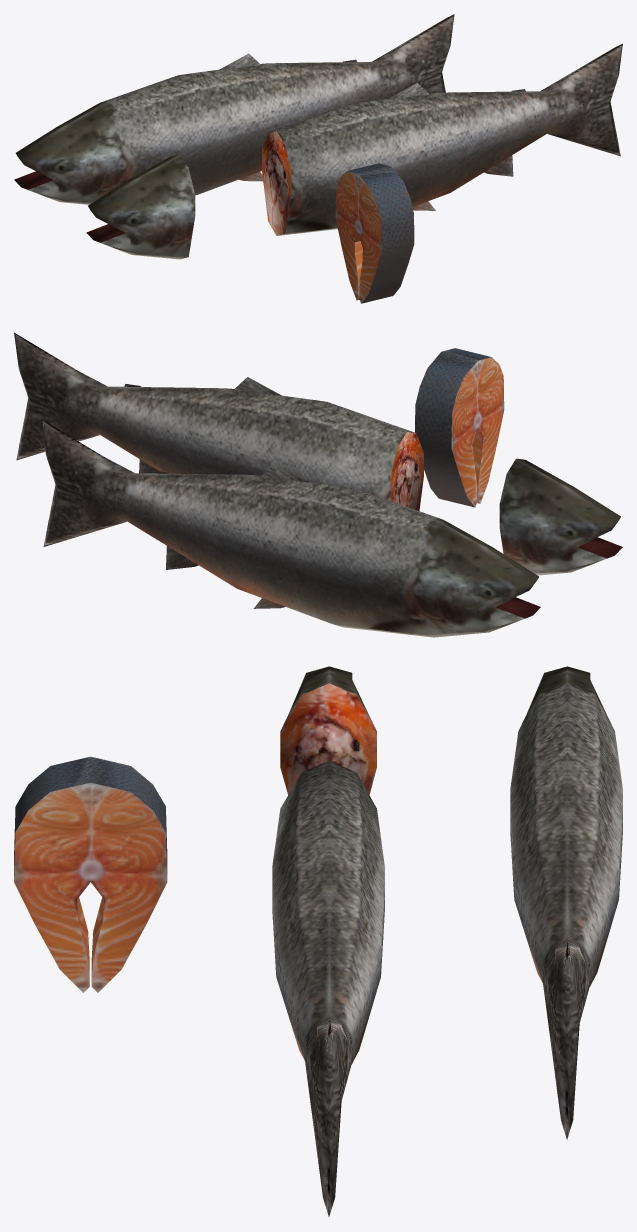
Rendered from SalmonFish.fbx.
3 views of the same model, one above another, from view 1: azimuth 30°, elevation 25°; view 2: azimuth 150°, elevation 25°; view 3: azimuth 270°, elevation 25° (orthographic). The views are drawn at different scales.
Visible parts, largest first — view 1: Fish1, Fish2_Body, Steak, Fish2_Head; view 2: Fish1, Fish2_Body, Steak, Fish2_Head; view 3: Fish1, Fish2_Body, Steak, Fish2_Head.
Boxes of the visible parts, x1=… form: Fish1: x1=14, y1=14, x2=454, y2=204; Fish2_Body: x1=262, y1=43, x2=622, y2=235; Steak: x1=335, y1=163, x2=414, y2=303; Fish2_Head: x1=86, y1=154, x2=195, y2=259; Fish1: x1=41, y1=419, x2=540, y2=637; Fish2_Body: x1=14, y1=332, x2=423, y2=511; Steak: x1=415, y1=348, x2=504, y2=507; Fish2_Head: x1=499, y1=458, x2=622, y2=575; Fish1: x1=510, y1=666, x2=622, y2=1139; Fish2_Body: x1=272, y1=760, x2=384, y2=1216; Steak: x1=14, y1=756, x2=167, y2=992; Fish2_Head: x1=280, y1=666, x2=376, y2=794.
Size of the model in its own units: 553 by 134 by 333.
